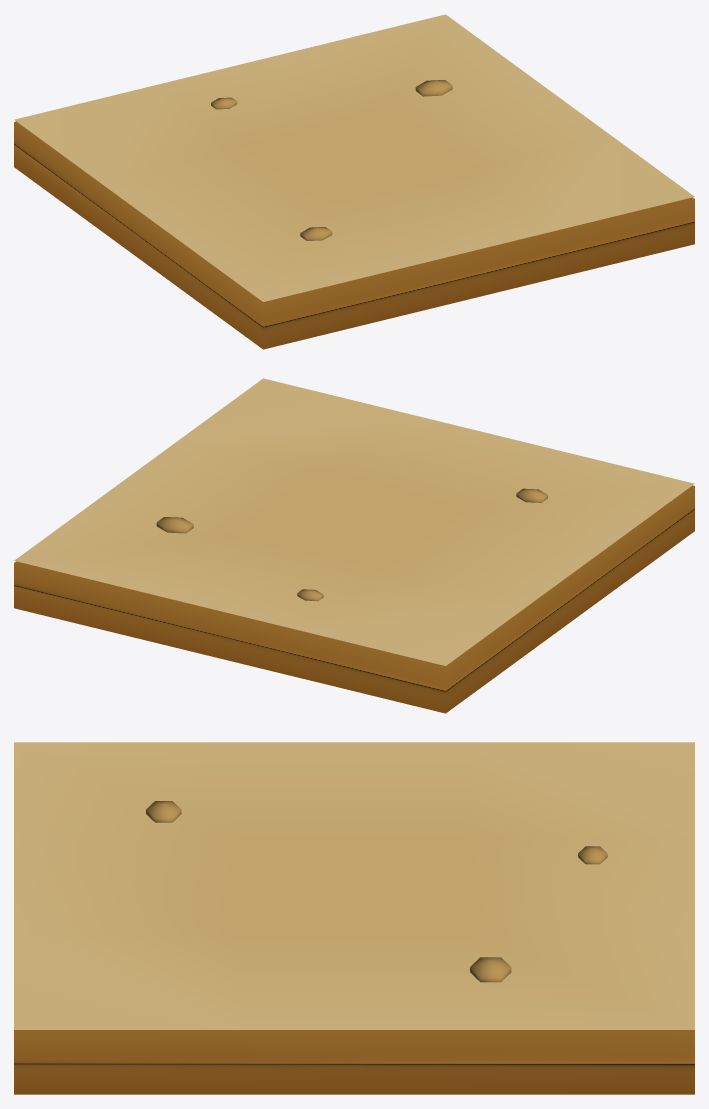
File: tile_path.glb
3 renders of one model, top to bottom at view 1: azimuth 30°, elevation 25°; view 2: azimuth 150°, elevation 25°; view 3: azimuth 270°, elevation 25°, orthographic. The views are drawn at different scales.
Parts seen in each view (by area): view 1: Tile.001; view 2: Tile.001; view 3: Tile.001.
Boxes of the visible parts, x1,y1,x2,y2 form: Tile.001: [14, 14, 694, 349]; Tile.001: [14, 378, 694, 713]; Tile.001: [14, 742, 694, 1094].
Bounding box in the file's own units: 1 × 0.1225 × 1.
